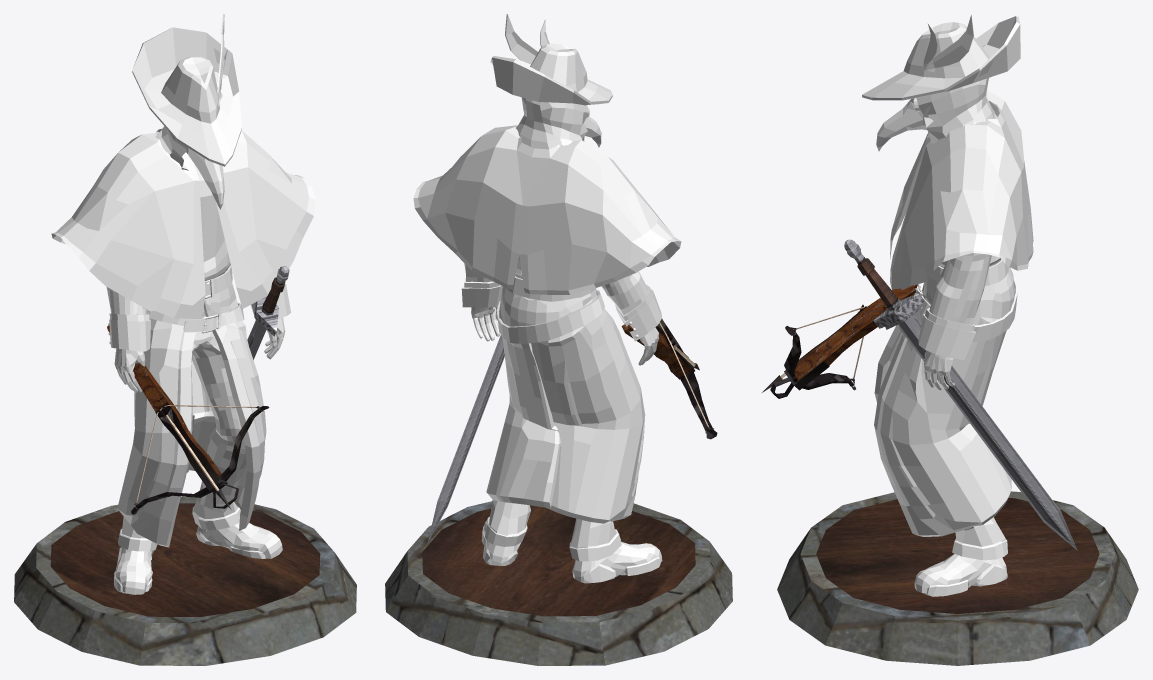
File: Player Model.fbx
3 renders of one model, left to right at view 1: azimuth 30°, elevation 25°; view 2: azimuth 150°, elevation 25°; view 3: azimuth 270°, elevation 25°, orthographic. The views are drawn at different scales.
Visible parts, largest first — view 1: Plauge; view 2: Plauge; view 3: Plauge.
Boxes of the visible parts, <box> form: Plauge: <box>14,14,356,665</box>; Plauge: <box>385,14,732,665</box>; Plauge: <box>762,14,1138,665</box>.
Size of the model in its own units: 863 by 1575 by 901.
